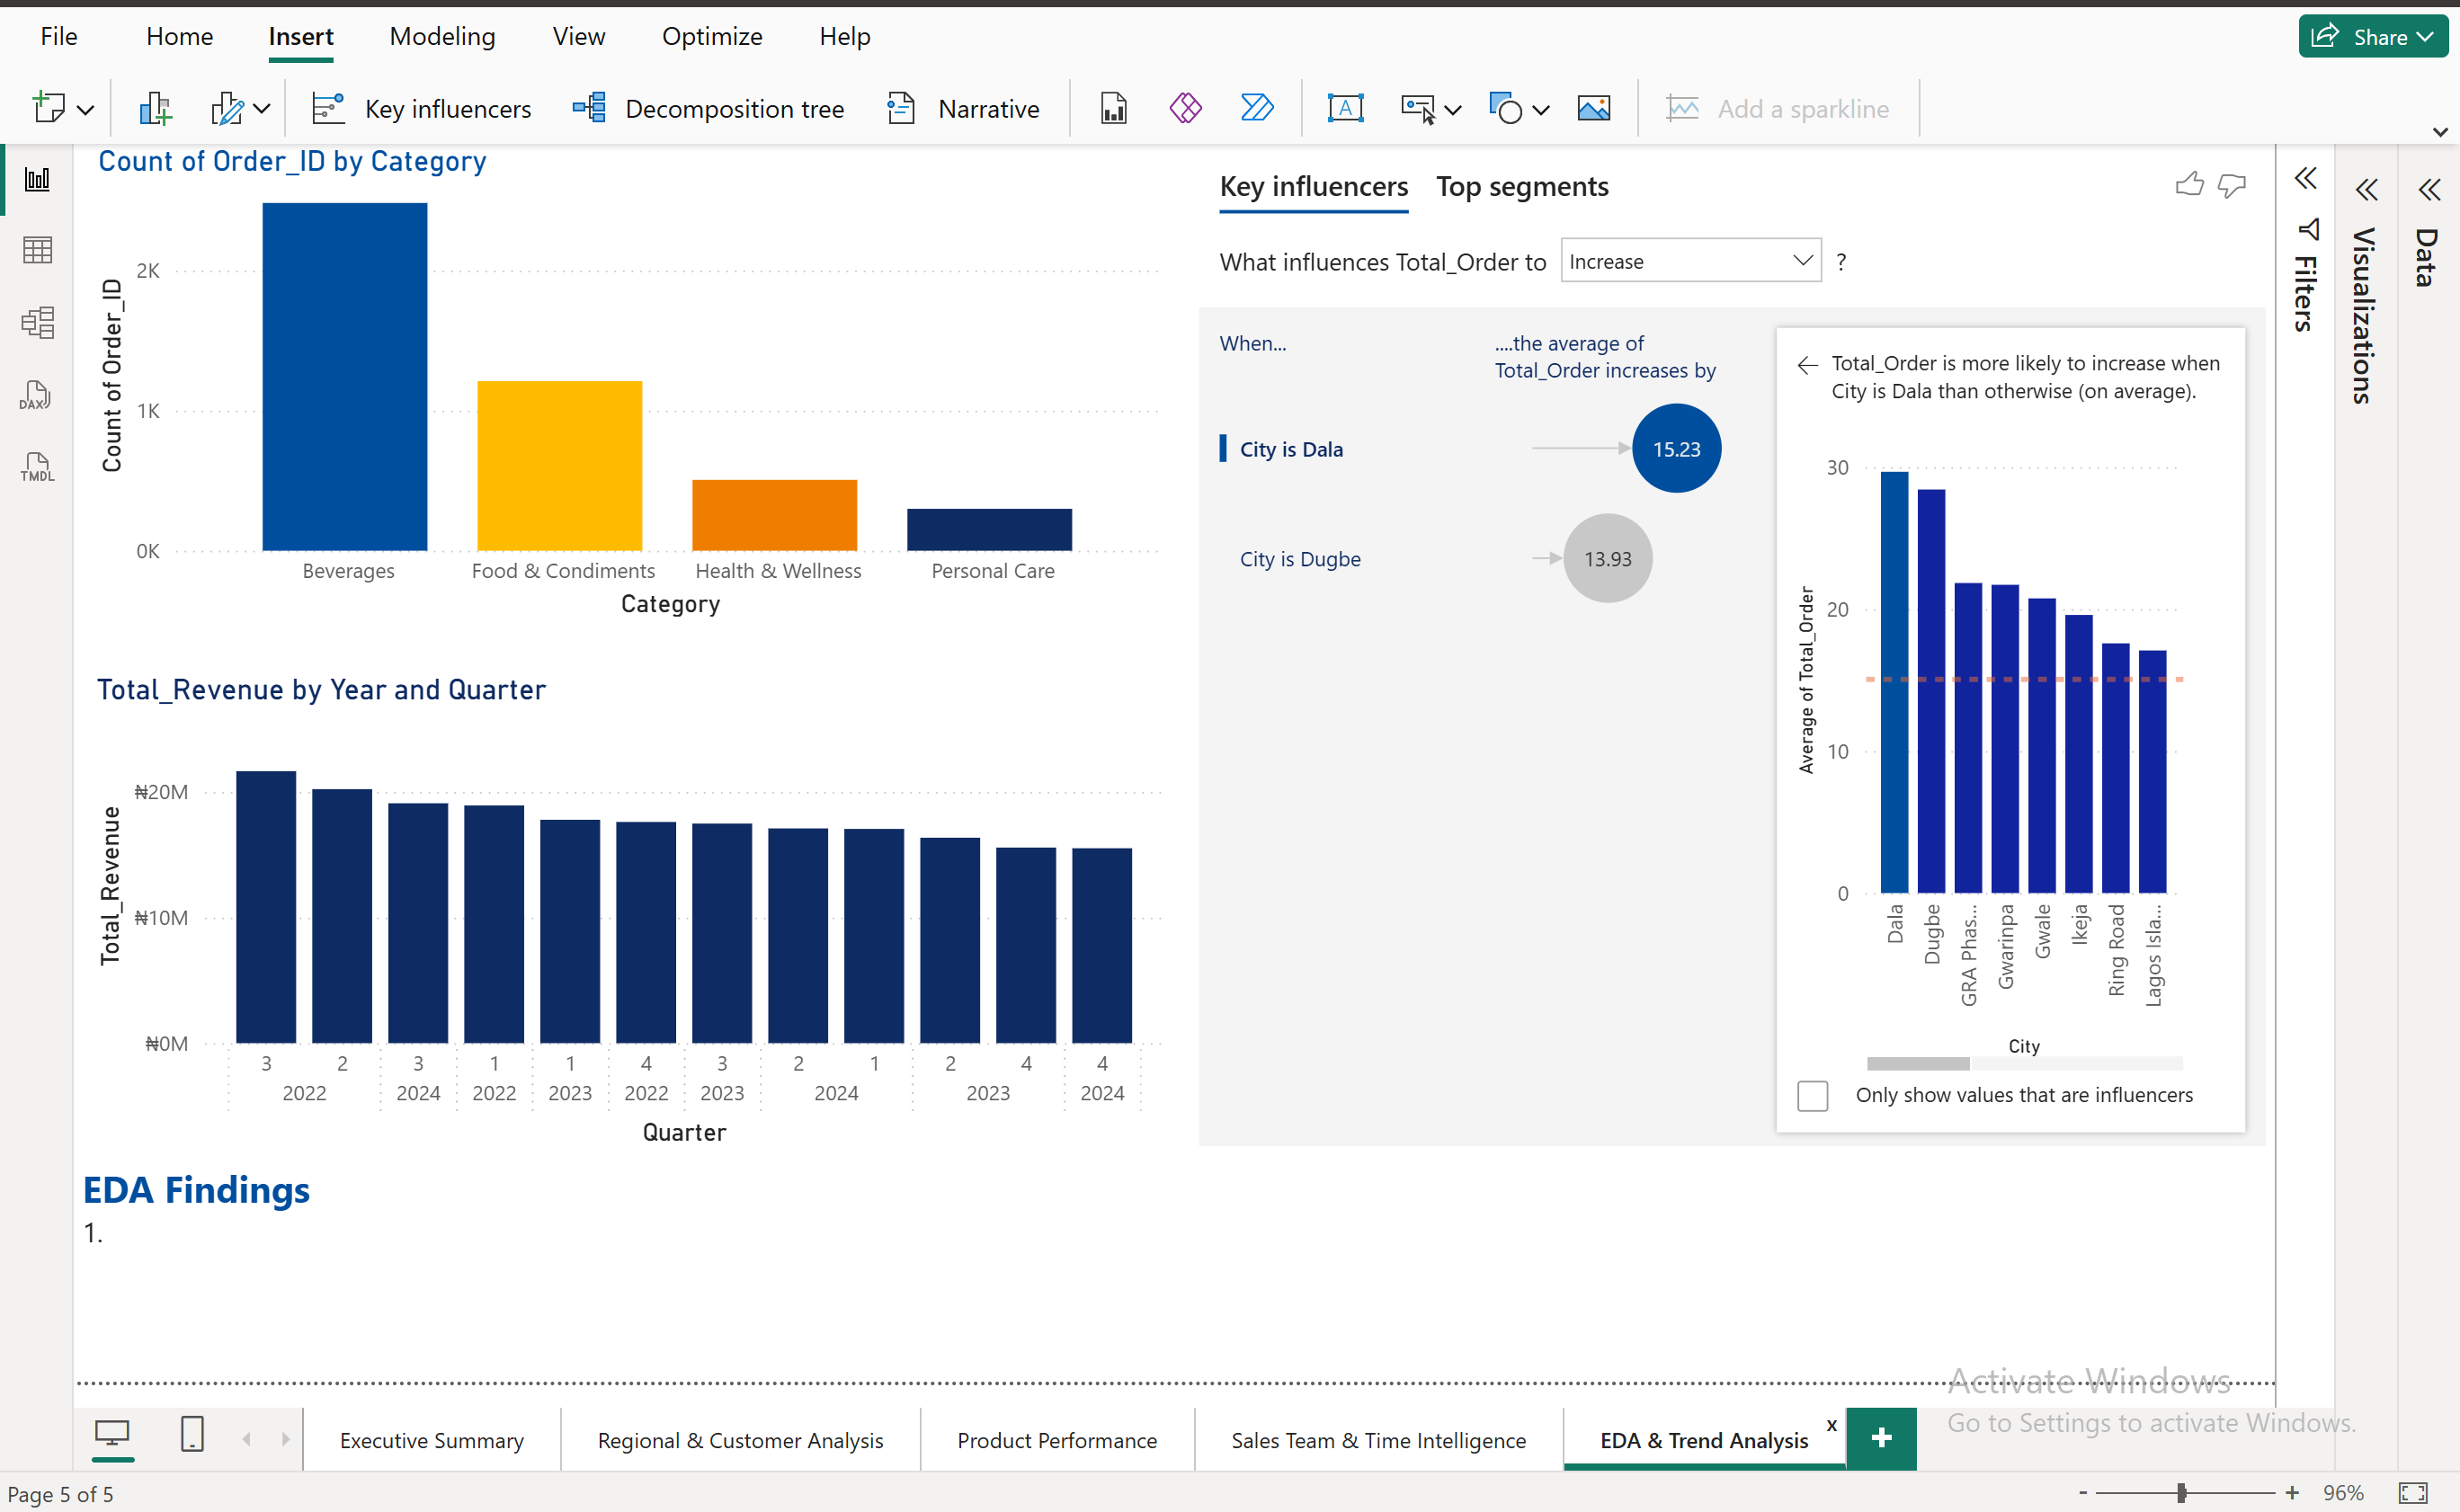

This screenshot's page, from the dashboard's own definition file:
{"tool":"powerbi","page":{"name":"EDA & Trend Analysis","canvas":[1280,720],"ordinal":4},"visuals":[{"type":"clusteredColumnChart","fields":{"Y":["CountNonNull(Sales.Order_ID)"],"Category":["Products.Category"]},"box":[9.6,0,630.4,280.2],"z":0},{"type":"columnChart","fields":{"Category":["Date.Date Hierarchy.Year","Date.Date Hierarchy.Quarter","Date.Date Hierarchy.Month_name"],"Y":["_Measures.Total_Revenue"]},"box":[8.2,307.6,630.4,280.2],"z":1000},{"type":"keyDriversVisual","fields":{"Target":["_Measures.Total_Order"],"ExplainBy":["_Measures.Avg_Order_Value","Customers.Region","Customers.City","Date.Date Hierarchy.Year","Date.Date Hierarchy.Quarter"]},"box":[649.6,0,630.4,587.8],"z":2000},{"type":"textbox","box":[0,587.8,1280,131.8],"z":3000}]}

Visuals, with their boxes on the page's 1280x720 design canvas (x1, y1, x2, y2). These are canvas units, not pixel positions in the 2460x1512 screenshot, which may show the page scaled, cropped or inside an application window:
clusteredColumnChart - CountNonNull(Sales.Order_ID) x Products.Category: bbox=[10, 0, 640, 280]
columnChart - Date.Date Hierarchy.Year x Date.Date Hierarchy.Quarter: bbox=[8, 308, 639, 588]
keyDriversVisual - _Measures.Total_Order x _Measures.Avg_Order_Value: bbox=[650, 0, 1280, 588]
textbox: bbox=[0, 588, 1280, 720]
